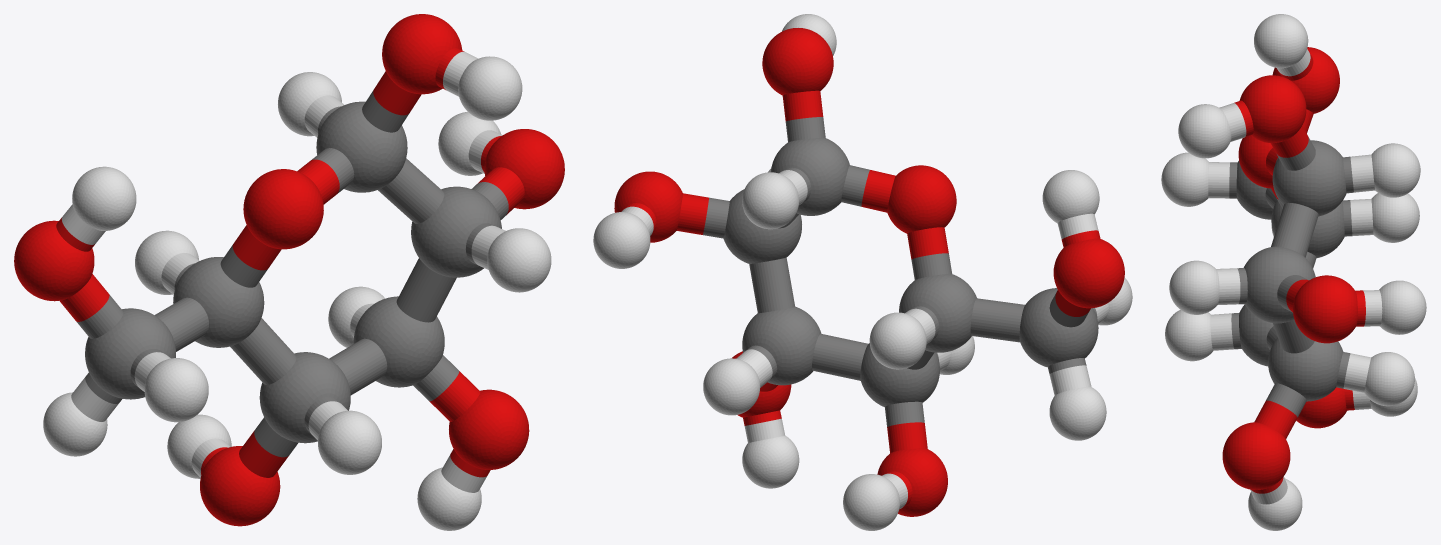
Rendered from glucosa.glb.
3 views of the same model, side by side, from view 1: azimuth 30°, elevation 25°; view 2: azimuth 150°, elevation 25°; view 3: azimuth 270°, elevation 25° (orthographic). The views are drawn at different scales.
Visible parts, largest first — view 1: atoms; view 2: atoms; view 3: atoms.
Part boxes in pixels (box(x1,y1,x2,y2)): atoms: box(14, 14, 564, 530); atoms: box(593, 14, 1132, 530); atoms: box(1161, 14, 1426, 530).
Bounding box in the file's own units: 7.13 × 6.4 × 3.51.
